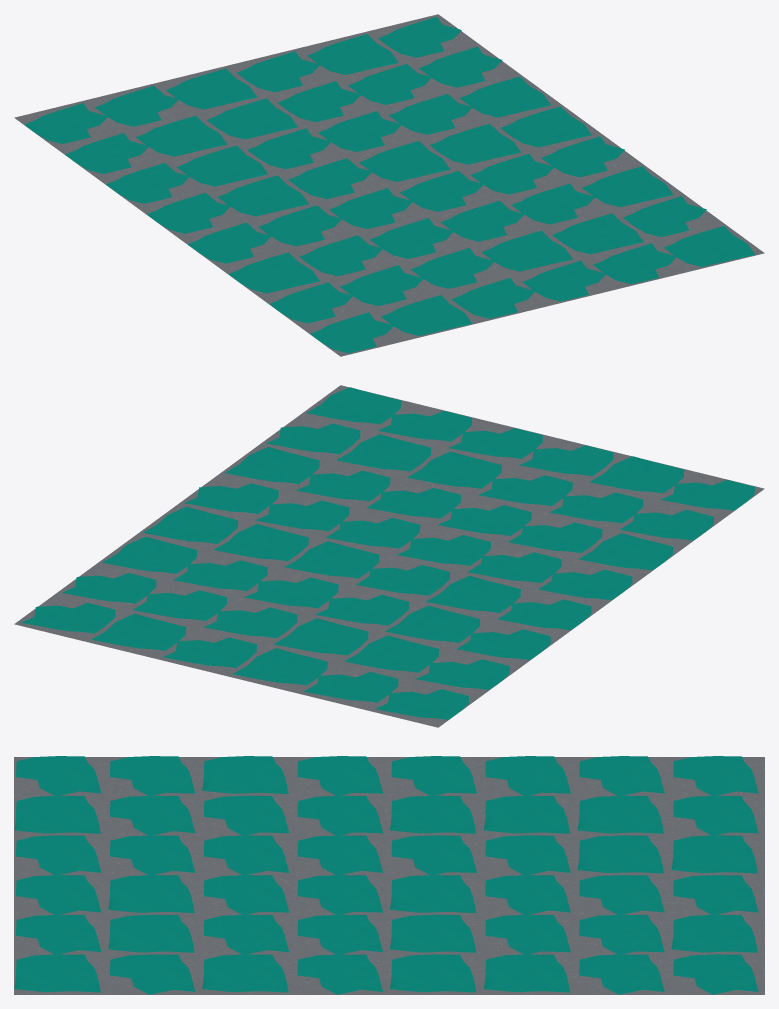
File: QmdgrtRSieZhjRL26Uz9r2r6an3ee2aowY2FiYJrYvp5B1_lod2.fbx
3 renders of one model, top to bottom at view 1: azimuth 30°, elevation 25°; view 2: azimuth 150°, elevation 25°; view 3: azimuth 270°, elevation 25°, orthographic. The views are drawn at different scales.
Parts seen in each view (by area): view 1: Entity_512; view 2: Entity_512; view 3: Entity_512.
Boxes of the visible parts, x1,y1,x2,y2 form: Entity_512: (14, 14, 764, 356); Entity_512: (14, 385, 764, 727); Entity_512: (14, 756, 764, 994).
Size of the model in its own units: 48150 by 70.81 by 64000.
1 material, 1 textured.
